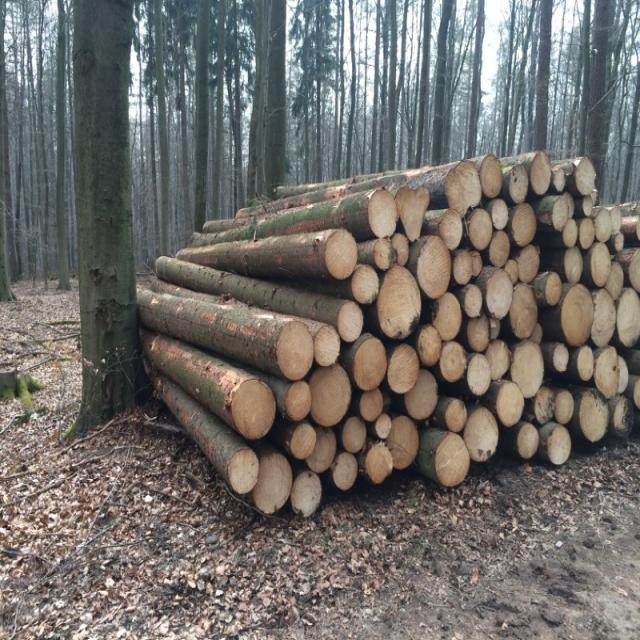wood-log: (374, 269, 420, 342), (230, 379, 276, 441), (411, 233, 454, 297), (310, 362, 354, 423), (254, 453, 294, 517), (274, 322, 314, 380), (560, 284, 596, 346), (462, 404, 499, 461), (350, 334, 386, 390), (443, 163, 481, 215), (434, 433, 470, 486), (511, 340, 545, 396), (397, 187, 432, 241), (404, 368, 440, 420), (386, 416, 420, 471), (387, 342, 421, 393), (325, 230, 361, 278), (588, 289, 616, 350), (509, 284, 539, 340), (579, 391, 611, 443), (483, 266, 514, 319), (594, 348, 626, 398), (367, 190, 398, 238), (434, 292, 464, 341), (290, 472, 322, 517), (228, 448, 260, 493), (496, 379, 526, 426), (617, 288, 640, 347), (363, 440, 393, 482), (308, 430, 336, 474), (438, 341, 468, 382), (467, 206, 495, 249), (509, 203, 537, 245), (284, 380, 312, 422), (350, 264, 379, 304), (415, 325, 443, 366), (337, 301, 364, 342), (313, 327, 340, 367), (485, 340, 511, 381), (467, 354, 492, 394), (591, 245, 614, 288), (292, 421, 318, 459), (547, 424, 572, 463), (439, 210, 464, 248), (333, 453, 359, 489), (342, 416, 366, 453), (575, 158, 599, 195), (466, 316, 490, 352), (517, 422, 540, 459), (517, 245, 540, 282), (552, 194, 576, 229), (532, 386, 554, 424), (488, 230, 511, 266), (546, 273, 571, 306), (358, 389, 382, 423), (445, 399, 468, 434), (562, 246, 583, 283), (462, 284, 482, 318), (488, 199, 509, 230), (556, 391, 575, 425), (578, 345, 596, 380), (580, 219, 598, 249), (552, 342, 570, 372), (376, 412, 394, 439), (628, 252, 640, 292), (562, 220, 578, 249), (632, 378, 640, 410)
